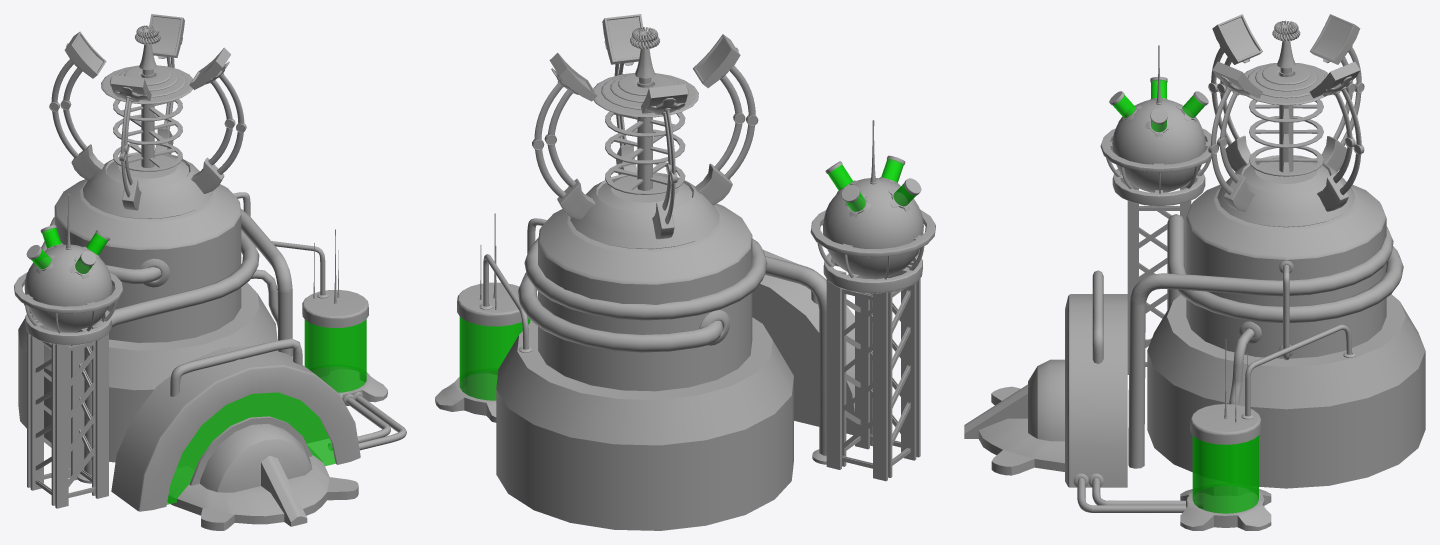
Rendered from FBX_Tower5_LowPOLY.fbx.
3 views of the same model, side by side, from view 1: azimuth 30°, elevation 25°; view 2: azimuth 150°, elevation 25°; view 3: azimuth 270°, elevation 25° (orthographic). The views are drawn at different scales.
Visible parts, largest first — view 1: Tower5_vbis2:SM_Base_Tower_LP, Tower5_vbis2:SM_Wheel_Tower_LP, Tower5_vbis2:SM_Stockage_Tower_01_LP, Tower5_vbis2:SM_Wheel_Floor_LP, Tower5_vbis2:SM_Sphere_01_LP, Tower5_vbis2:SM_Wheel_Support_LP, Tower5_vbis2:SM_Tuyau_02_LP, Tower5_vbis2:SM_Tuyau_01_LP, Tower5_vbis2:SM_Poutre_02_LP, Tower5_vbis2:SM_Poutre_01_LP, Tower5_vbis2:SM_Poutre_03_LP, Tower5_vbis2:SM_Tuyau_03_LP (+23 smaller); view 2: Tower5_vbis2:SM_Base_Tower_LP, Tower5_vbis2:SM_Wheel_Tower_LP, Tower5_vbis2:SM_Stockage_Tower_01_LP, Tower5_vbis2:SM_Tuyau_02_LP, Tower5_vbis2:SM_Sphere_01_LP, Tower5_vbis2:SM_Tuyau_01_LP, Tower5_vbis2:SM_Poutre_03_LP, Tower5_vbis2:SM_Poutre_04_LP, Tower5_vbis2:SM_Poutre_02_LP, Tower5_vbis2:SM_Poutre_01_LP, Tower5_vbis2:SM_Ring_01_LP4, Tower5_vbis2:SM_Ring_01_LP5 (+16 smaller); view 3: Tower5_vbis2:SM_Base_Tower_LP, Tower5_vbis2:SM_Wheel_Tower_LP, Tower5_vbis2:SM_Stockage_Tower_01_LP, Tower5_vbis2:SM_Tuyau_01_LP, Tower5_vbis2:SM_Sphere_01_LP, Tower5_vbis2:SM_Tuyau_02_LP, Tower5_vbis2:SM_Wheel_Floor_LP, Tower5_vbis2:SM_Wheel_Support_LP, Tower5_vbis2:SM_Ring_01_LP4, Tower5_vbis2:SM_SquareHMA_01_LP, Tower5_vbis2:SM_SquareHMA_04_LP, Tower5_vbis2:SM_Wheel_Part_02_LP (+22 smaller).
Boxes of the visible parts, x1,y1,x2,y2 form: Tower5_vbis2:SM_Base_Tower_LP: (18,152,277,462); Tower5_vbis2:SM_Wheel_Tower_LP: (111,345,360,511); Tower5_vbis2:SM_Stockage_Tower_01_LP: (302,290,387,402); Tower5_vbis2:SM_Wheel_Floor_LP: (167,446,358,530); Tower5_vbis2:SM_Sphere_01_LP: (24,244,112,332); Tower5_vbis2:SM_Wheel_Support_LP: (200,423,312,492); Tower5_vbis2:SM_Tuyau_02_LP: (41,230,259,475); Tower5_vbis2:SM_Tuyau_01_LP: (50,208,292,357); Tower5_vbis2:SM_Poutre_02_LP: (51,344,68,508); Tower5_vbis2:SM_Poutre_01_LP: (92,324,108,498); Tower5_vbis2:SM_Poutre_03_LP: (27,317,43,490); Tower5_vbis2:SM_Tuyau_03_LP: (170,338,302,396); Tower5_vbis2:SM_Base_Tower_LP: (496,172,793,530); Tower5_vbis2:SM_Wheel_Tower_LP: (752,249,854,435); Tower5_vbis2:SM_Stockage_Tower_01_LP: (435,282,530,422); Tower5_vbis2:SM_Tuyau_02_LP: (518,256,826,455); Tower5_vbis2:SM_Sphere_01_LP: (823,178,923,279); Tower5_vbis2:SM_Tuyau_01_LP: (524,238,767,320); Tower5_vbis2:SM_Poutre_03_LP: (873,290,892,481); Tower5_vbis2:SM_Poutre_04_LP: (826,270,846,469); Tower5_vbis2:SM_Poutre_02_LP: (901,261,920,460); Tower5_vbis2:SM_Poutre_01_LP: (855,293,872,449); Tower5_vbis2:SM_Ring_01_LP4: (823,253,922,293); Tower5_vbis2:SM_Ring_01_LP5: (810,209,935,257); Tower5_vbis2:SM_Base_Tower_LP: (1147,155,1425,488); Tower5_vbis2:SM_Wheel_Tower_LP: (1065,294,1127,487); Tower5_vbis2:SM_Stockage_Tower_01_LP: (1180,404,1271,530); Tower5_vbis2:SM_Tuyau_01_LP: (1128,226,1393,468); Tower5_vbis2:SM_Sphere_01_LP: (1112,99,1205,192); Tower5_vbis2:SM_Tuyau_02_LP: (1167,214,1403,322); Tower5_vbis2:SM_Wheel_Floor_LP: (978,386,1064,475); Tower5_vbis2:SM_Wheel_Support_LP: (1028,359,1064,441); Tower5_vbis2:SM_Ring_01_LP4: (1112,168,1205,206); Tower5_vbis2:SM_SquareHMA_01_LP: (1212,14,1262,64); Tower5_vbis2:SM_SquareHMA_04_LP: (1310,14,1360,64); Tower5_vbis2:SM_Wheel_Part_02_LP: (964,384,1028,438).
Size of the model in its own units: 7.37 by 7.08 by 7.22.
